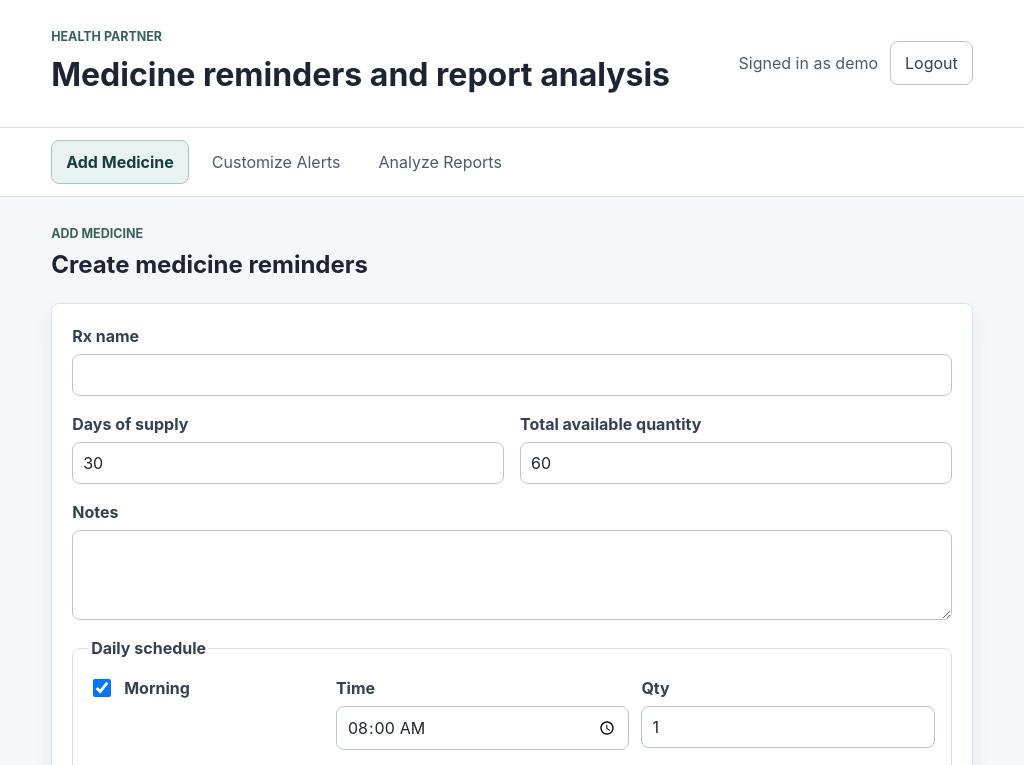
it: App › switches between only the three authenticated workflows
Check: the text "Signed in as demo" is shown, box [738,51,878,75]
What coordinates should you click on to do the following:
click the button "Customize Alerts"
I would click on:
 (276, 162)
Its box is [197,140,355,184].
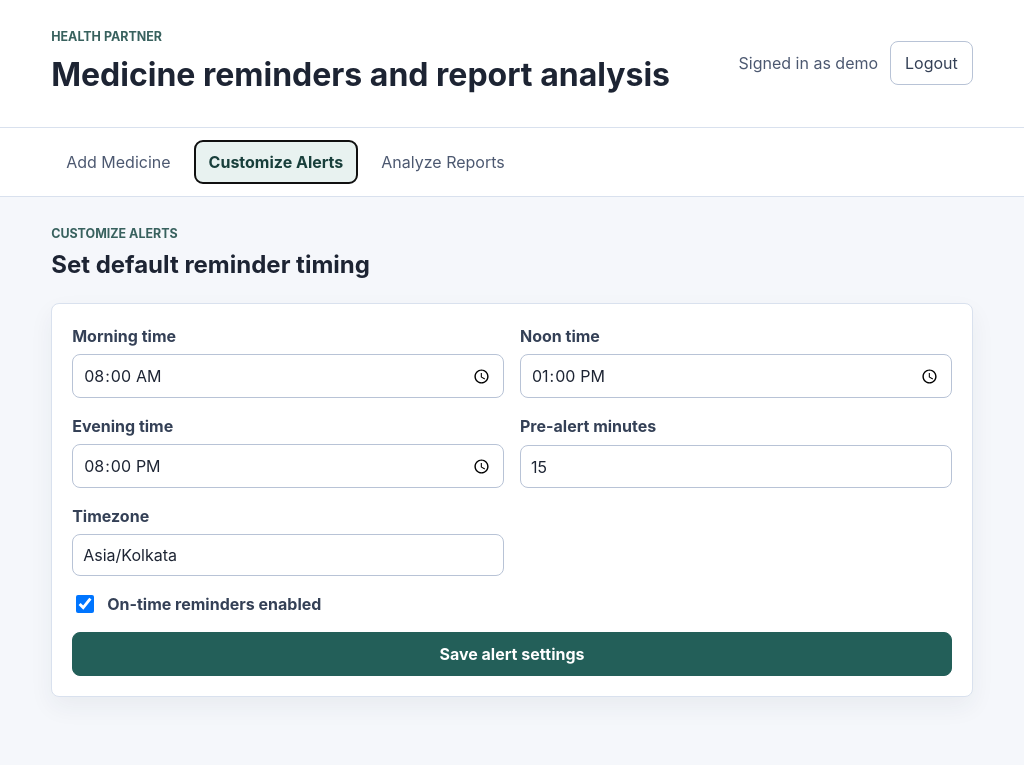
Check: the heading "Upload a report for AI-assisted review" is not shown
Check: the heading "Set default reminder timing" is shown, box [51,247,370,283]
Check: the heading "Create medicine reminders" is gone
What coordinates should you click on to do the following:
click the button "Analyze Reports"
I would click on:
 (443, 162)
Its box is [366,140,520,184].
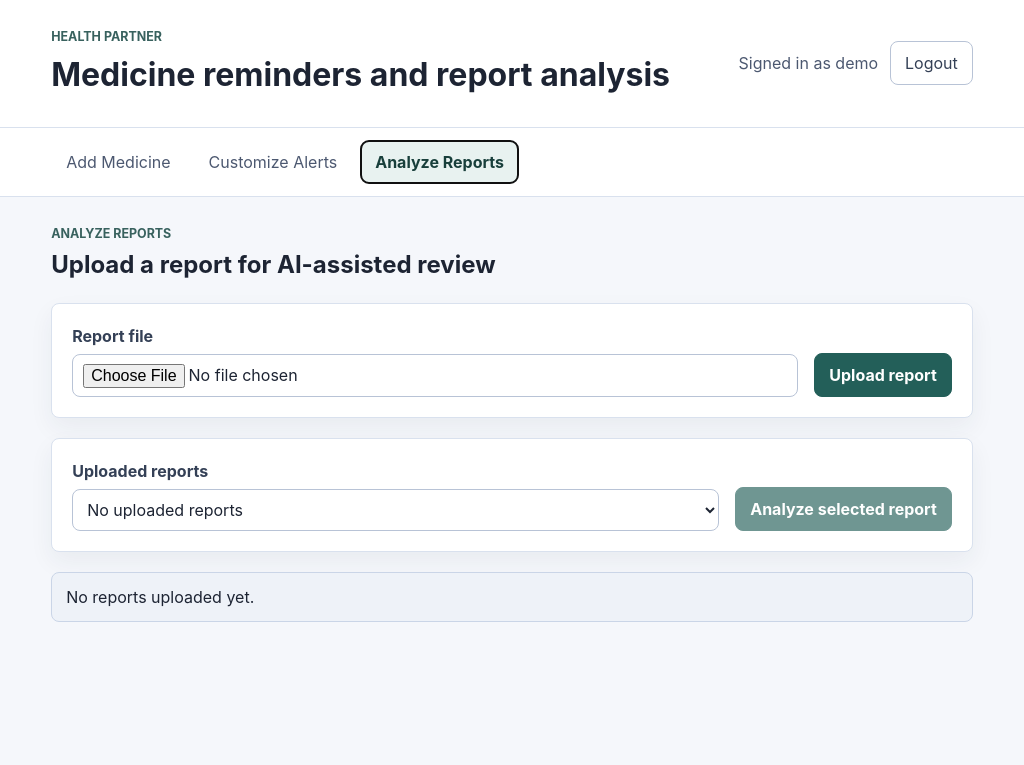
Check: the heading "Create medicine reminders" is not shown
Check: the heading "Upload a report for AI-assisted review" is shown, box [51,247,496,283]
Check: the heading "Set default reminder timing" is gone
What coordinates should you click on to do the following:
click the button "Add Medicine"
I would click on:
 (118, 162)
Its box is [51,140,186,184].
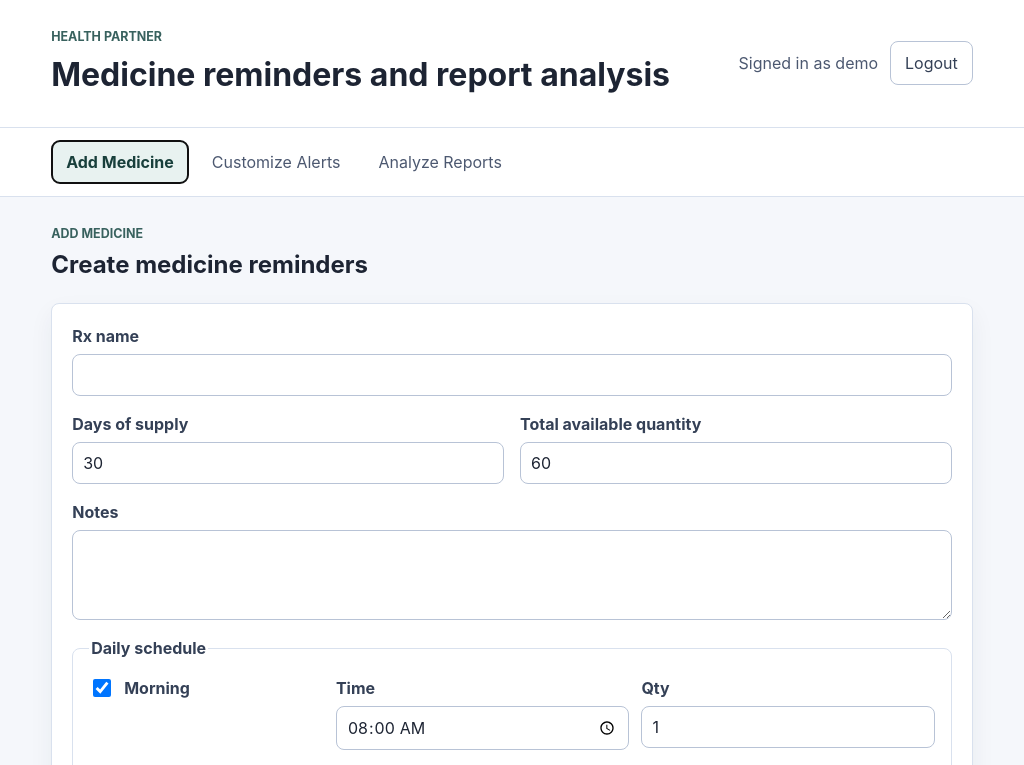
Check: the heading "Set default reminder timing" is not shown
Check: the heading "Create medicine reminders" is shown, box [51,247,368,283]
Check: the heading "Upload a report for AI-assisted review" is gone
